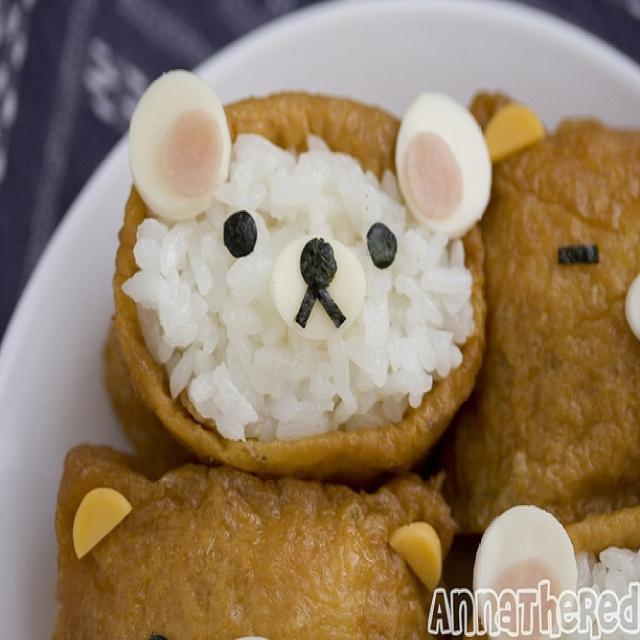寿司卷物: (27, 34, 590, 634)
